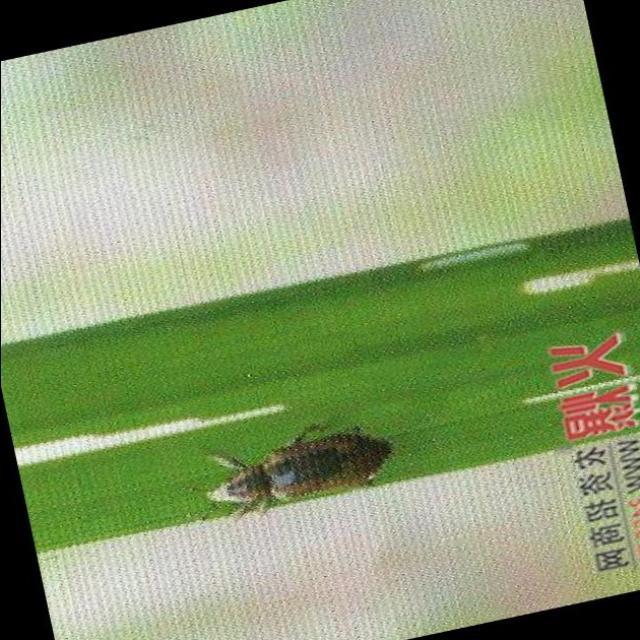ricebug: (206, 432, 390, 515)
